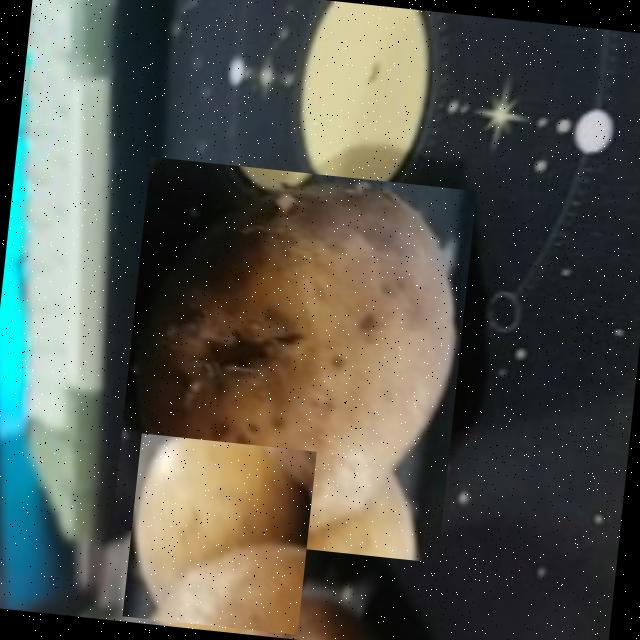Damaged potato: (111, 156, 476, 562)
Potato: (122, 432, 316, 633)
